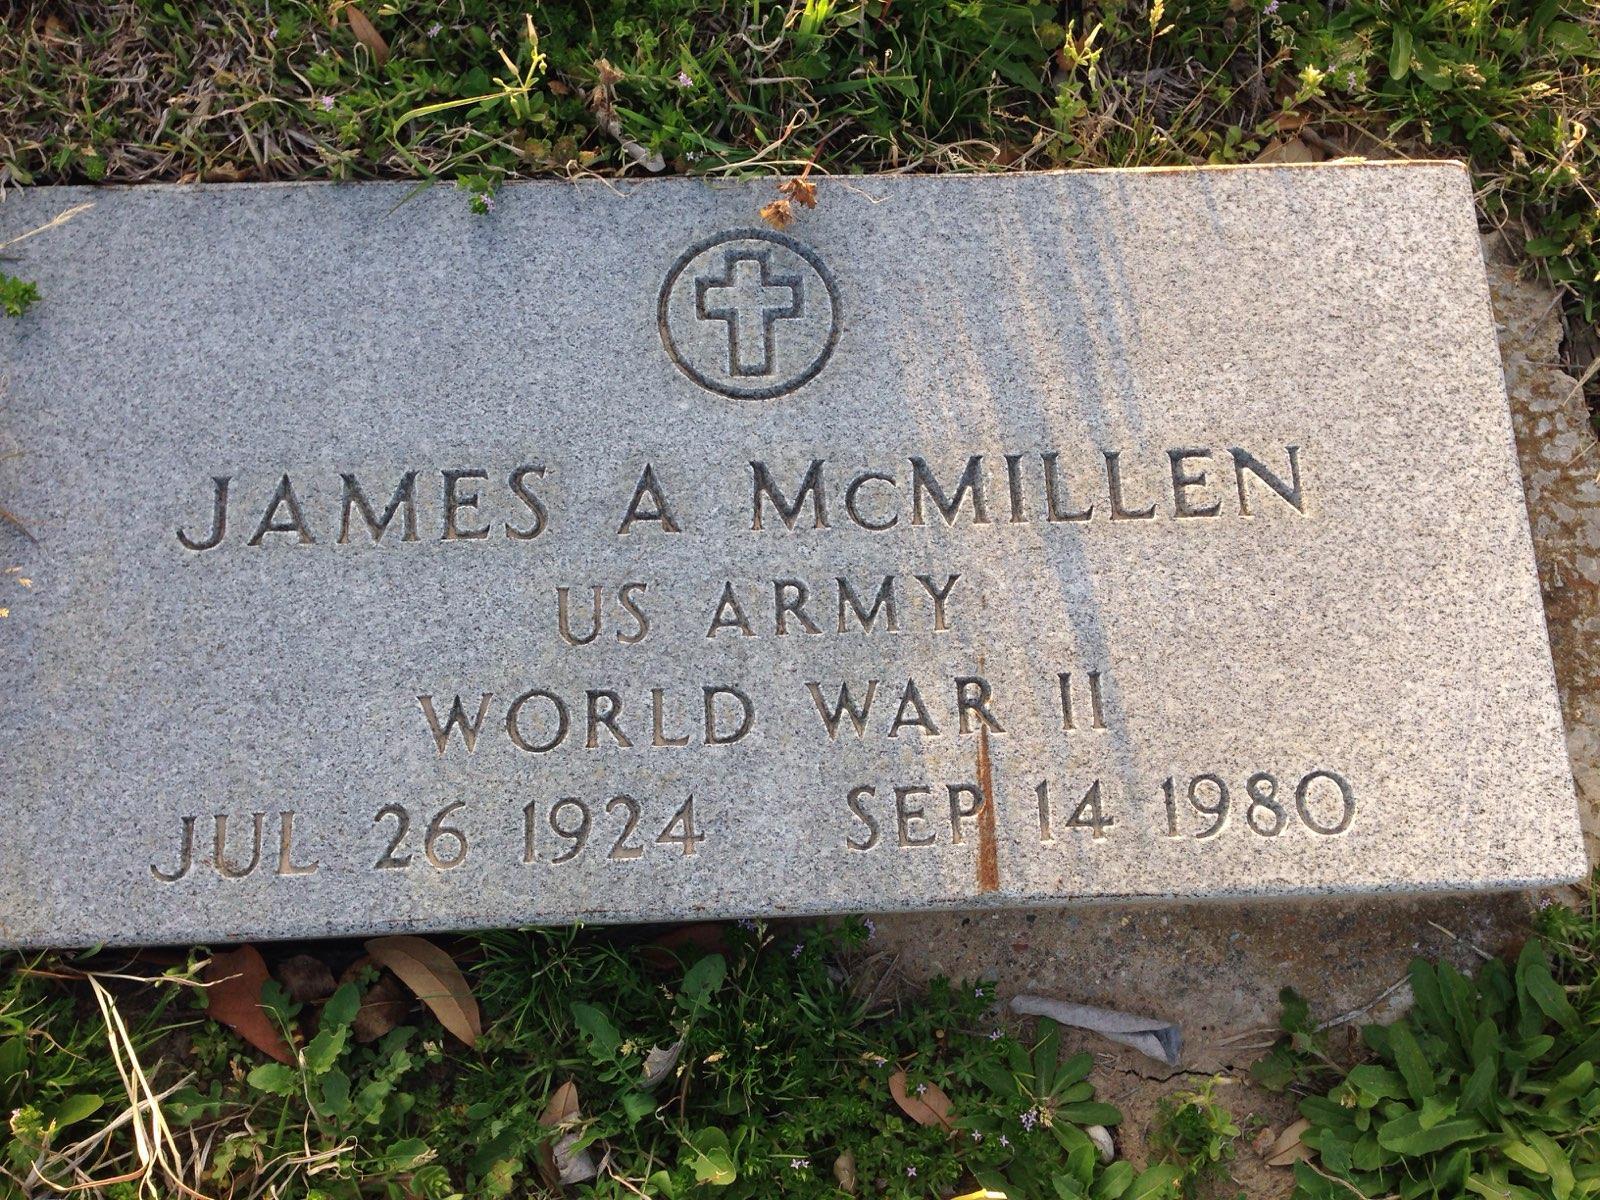flat: (0, 174, 1591, 950)
